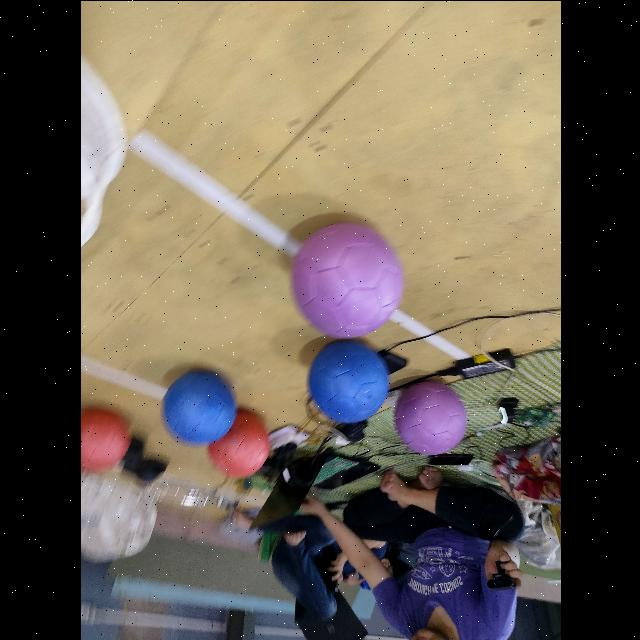B: (308, 341, 388, 422), (162, 371, 234, 445)
P: (292, 222, 402, 338), (394, 381, 466, 454)
R: (208, 410, 268, 476), (80, 410, 130, 472)
S: (80, 56, 124, 244)
